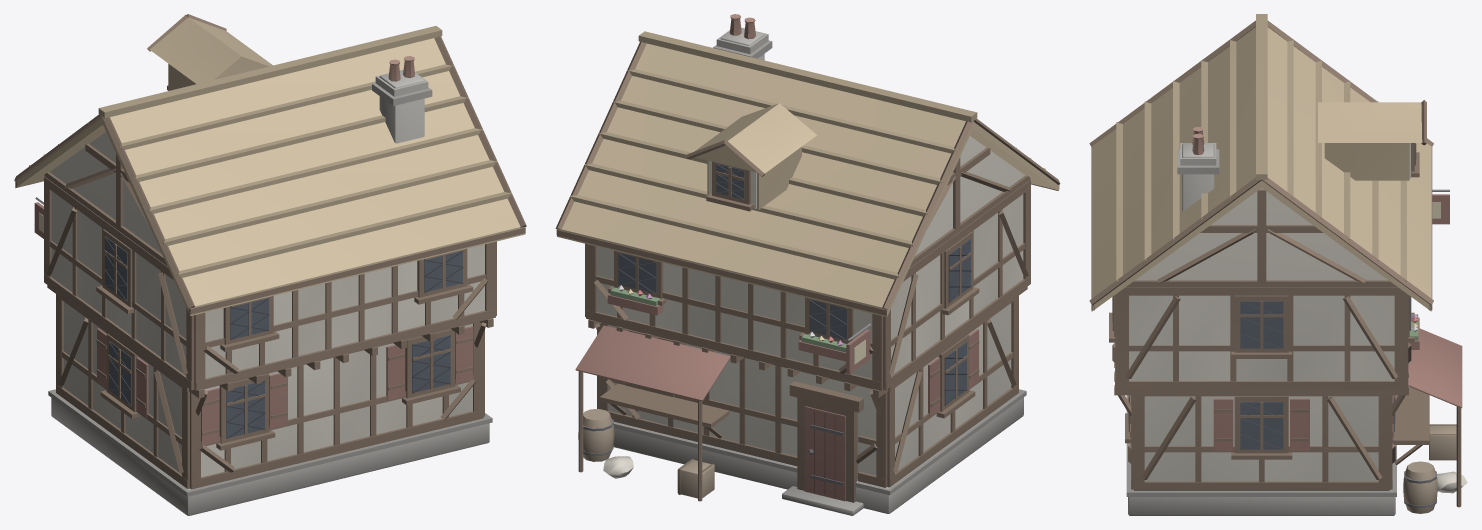
The model's file is shop_amber.gltf.
3 renders of one model, left to right at view 1: azimuth 30°, elevation 25°; view 2: azimuth 150°, elevation 25°; view 3: azimuth 270°, elevation 25°, orthographic. The views are drawn at different scales.
Visible parts, largest first — view 1: Body; view 2: Body; view 3: Body.
Boxes of the visible parts, bbox=[...] form: Body: bbox=[14, 14, 526, 515]; Body: bbox=[555, 14, 1060, 515]; Body: bbox=[1089, 14, 1467, 515].
Size of the model in its own units: 8.37 by 8.76 by 8.34.
